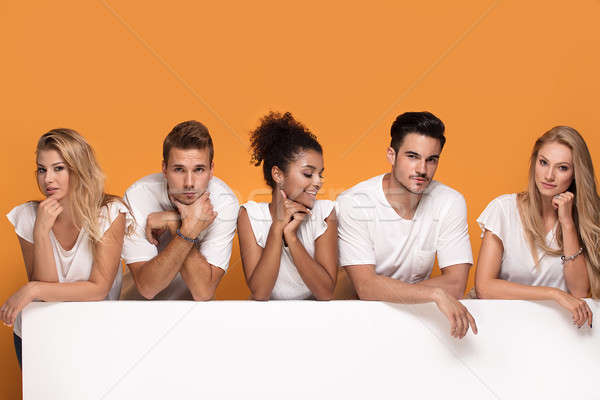person: (342, 105, 477, 267), (120, 101, 235, 272), (482, 119, 591, 297), (20, 116, 124, 282), (239, 117, 329, 244)
